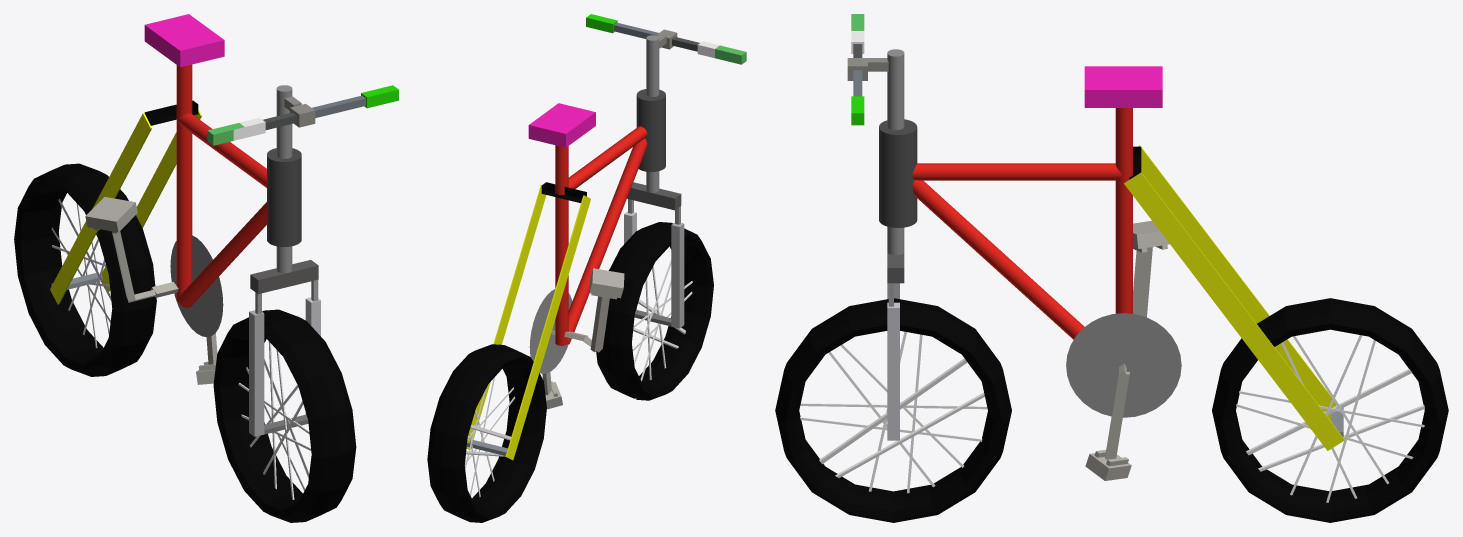
The model's file is bicycle-ef6f50.glb.
The picture shows the model from 3 angles, left to right: view 1: azimuth 30°, elevation 25°; view 2: azimuth 150°, elevation 25°; view 3: azimuth 270°, elevation 25°; orthographic projection. The views are drawn at different scales.
Parts seen in each view (by area): view 1: PropMesh; view 2: PropMesh; view 3: PropMesh.
Part boxes in pixels (left/top/right/bottom): PropMesh: left=14, top=14, right=398, bottom=522; PropMesh: left=427, top=14, right=746, bottom=522; PropMesh: left=775, top=14, right=1448, bottom=522.
Bounding box in the file's own units: 0.5228 × 1.14 × 1.5.
